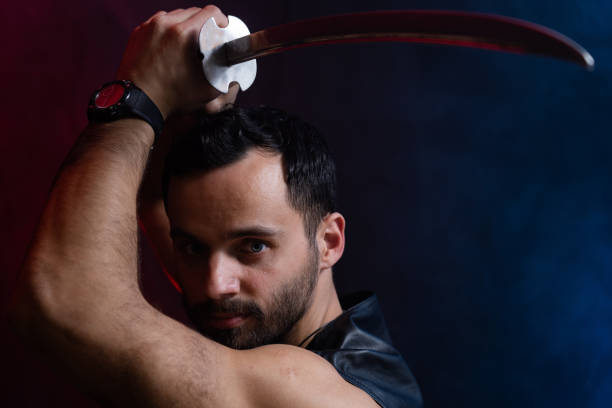knife: (188, 8, 596, 93)
